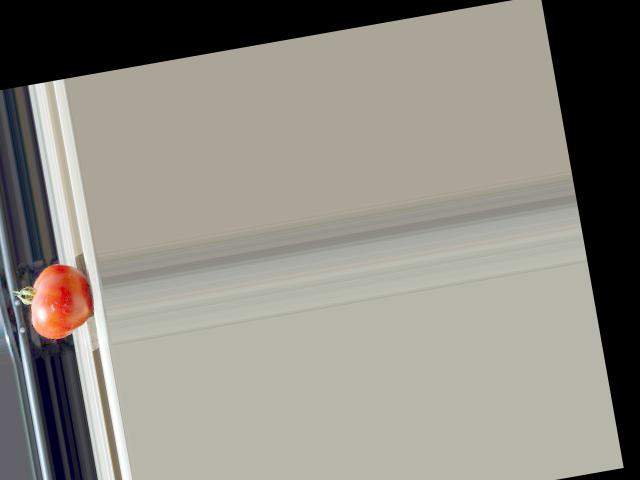tomato: (10, 259, 96, 344)
